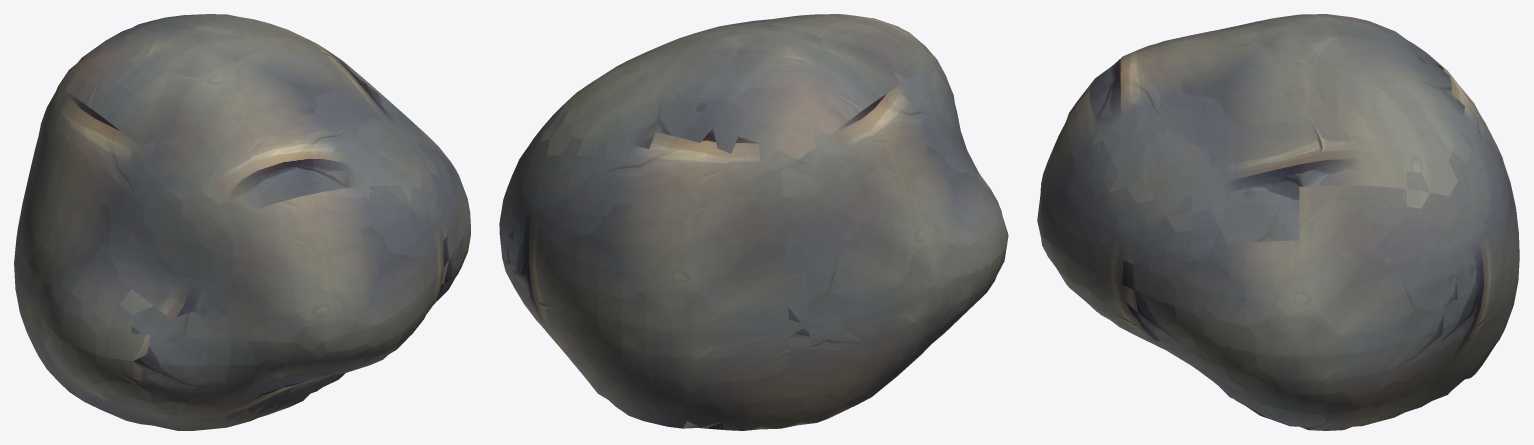
The model's file is boulder1_s8105.gltf.
The picture shows the model from 3 angles, left to right: view 1: azimuth 30°, elevation 25°; view 2: azimuth 150°, elevation 25°; view 3: azimuth 270°, elevation 25°; orthographic projection. The views are drawn at different scales.
Parts seen in each view (by area): view 1: boulder1_s8105_stone_LOD0; view 2: boulder1_s8105_stone_LOD0; view 3: boulder1_s8105_stone_LOD0.
Boxes of the visible parts, x1,y1,x2,y2 form: boulder1_s8105_stone_LOD0: (14, 14, 470, 430); boulder1_s8105_stone_LOD0: (499, 14, 1008, 430); boulder1_s8105_stone_LOD0: (1037, 14, 1519, 430).
Size of what is drawn, in the model's own units: 2.26 by 1.67 by 2.26.
Materials: 1 (1 with a texture image).
